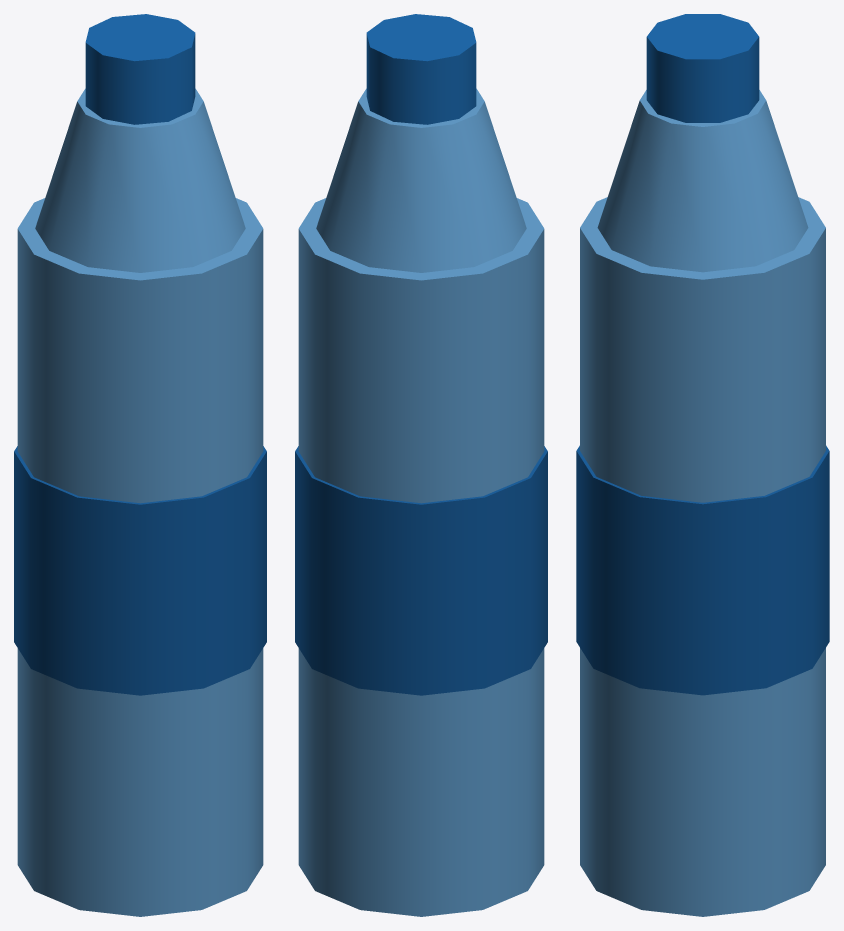
Rendered from water.glb.
3 renders of one model, left to right at view 1: azimuth 30°, elevation 25°; view 2: azimuth 150°, elevation 25°; view 3: azimuth 270°, elevation 25°, orthographic.
Parts seen in each view (by area): view 1: water; view 2: water; view 3: water.
Part boxes in pixels (box(x1,y1,x2,y2)): water: box(14, 14, 266, 916); water: box(295, 14, 547, 916); water: box(576, 14, 829, 916).
Size of the model in its own units: 0.072 by 0.26 by 0.072.
